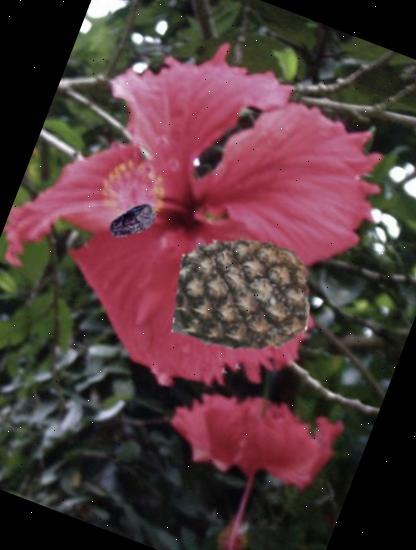Dates: (100, 190, 166, 256)
Pineapple: (157, 208, 330, 381)
